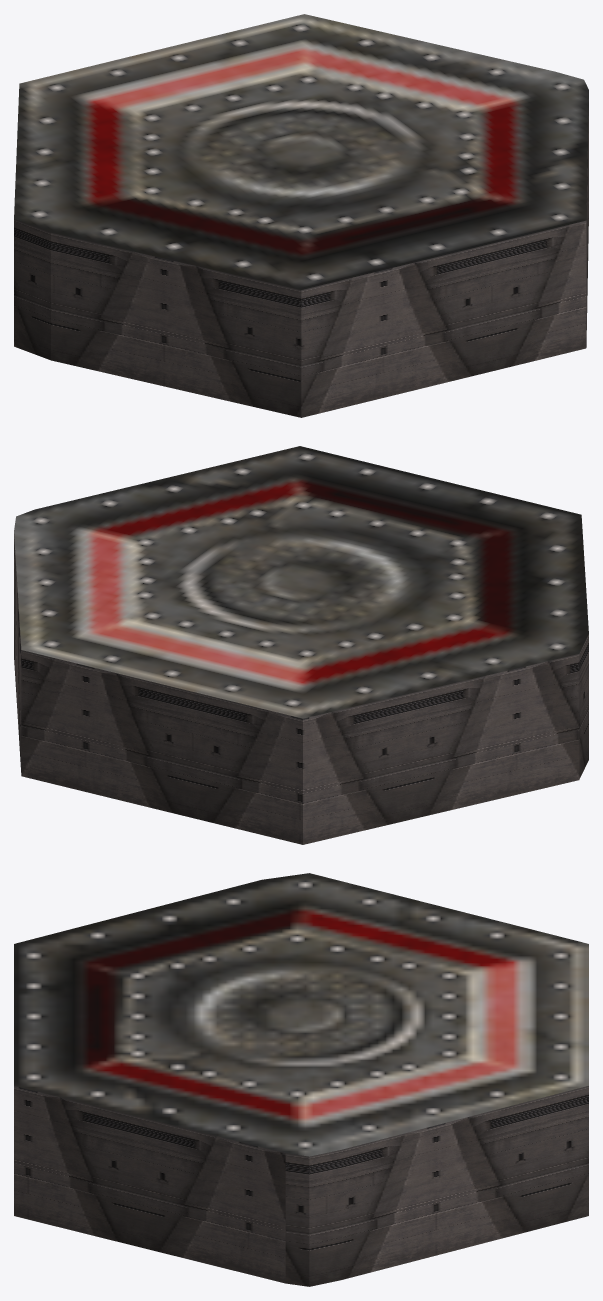
File: gun_emplacement_heavy_01.glb
The picture shows the model from 3 angles, top to bottom: view 1: azimuth 30°, elevation 25°; view 2: azimuth 150°, elevation 25°; view 3: azimuth 270°, elevation 25°; orthographic projection. The views are drawn at different scales.
Parts seen in each view (by area): view 1: buildings/saxarba/gun_emplacement/gun_emplacement_heavy_01; view 2: buildings/saxarba/gun_emplacement/gun_emplacement_heavy_01; view 3: buildings/saxarba/gun_emplacement/gun_emplacement_heavy_01.
Part boxes in pixels (x1,y1,x2,y2): buildings/saxarba/gun_emplacement/gun_emplacement_heavy_01: (14, 14, 588, 417); buildings/saxarba/gun_emplacement/gun_emplacement_heavy_01: (14, 446, 588, 844); buildings/saxarba/gun_emplacement/gun_emplacement_heavy_01: (14, 873, 588, 1286).
Size of the model in its own units: 84 by 18 by 72.
